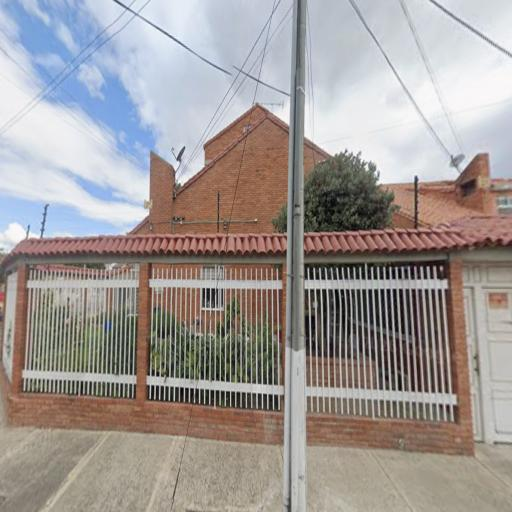poste: (276, 0, 326, 510)
